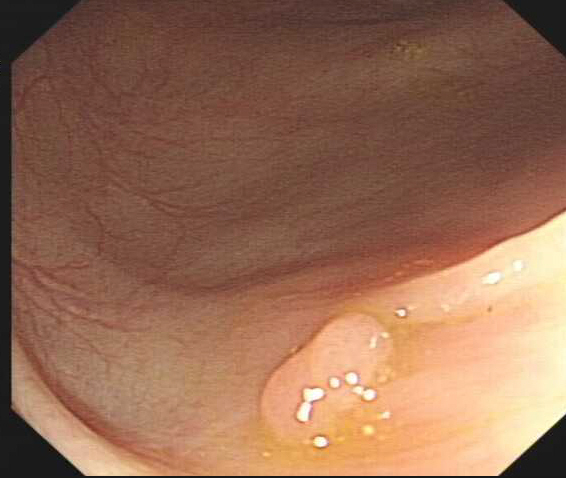others: (257, 309, 396, 447)
